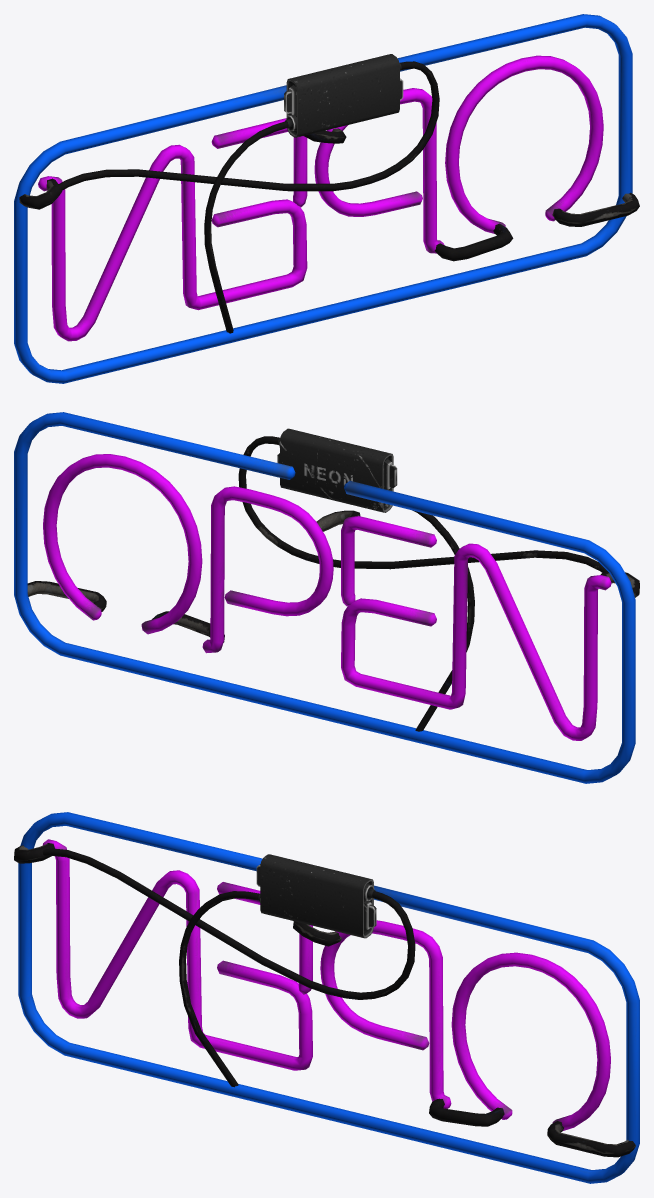
Rendered from Prop_OpenSign24_2.fbx.
3 views of the same model, one above another, from view 1: azimuth 30°, elevation 25°; view 2: azimuth 150°, elevation 25°; view 3: azimuth 330°, elevation 25° (orthographic).
Visible parts, largest first — view 1: Prop_OpenSign24_2; view 2: Prop_OpenSign24_2; view 3: Prop_OpenSign24_2.
Boxes of the visible parts, left/top/right/bottom form: Prop_OpenSign24_2: left=14, top=14, right=639, bottom=383; Prop_OpenSign24_2: left=14, top=412, right=639, bottom=783; Prop_OpenSign24_2: left=14, top=812, right=639, bottom=1183.
Bounding box in the file's own units: 106 × 42.95 × 7.44.
